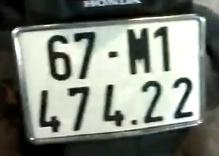1: (152, 24, 175, 74)
2: (138, 79, 167, 125), (171, 75, 197, 120)
4: (33, 87, 62, 136), (101, 80, 129, 130)
6: (44, 34, 73, 81)
7: (65, 84, 94, 134), (74, 31, 99, 81)
M: (124, 26, 153, 78)
